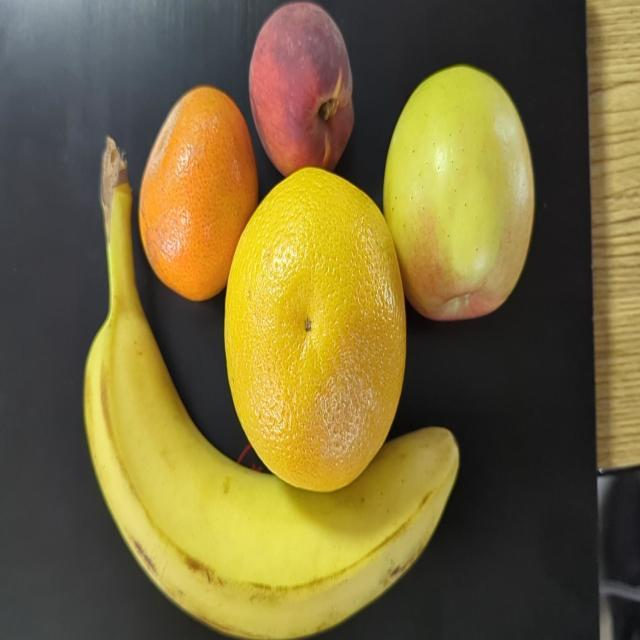Apel Gala: (385, 59, 537, 318)
Jeruk: (227, 171, 406, 496)
Jeruk Mandarin: (138, 71, 254, 310)
Persik: (251, 2, 361, 176)
Pisang: (93, 136, 456, 629)
